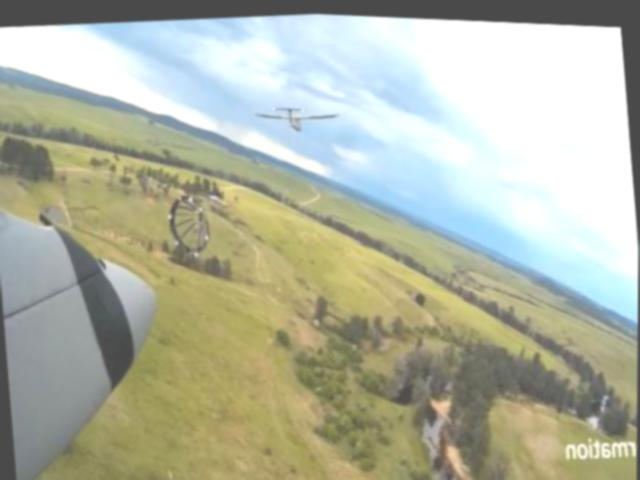uav: (253, 93, 344, 135)
